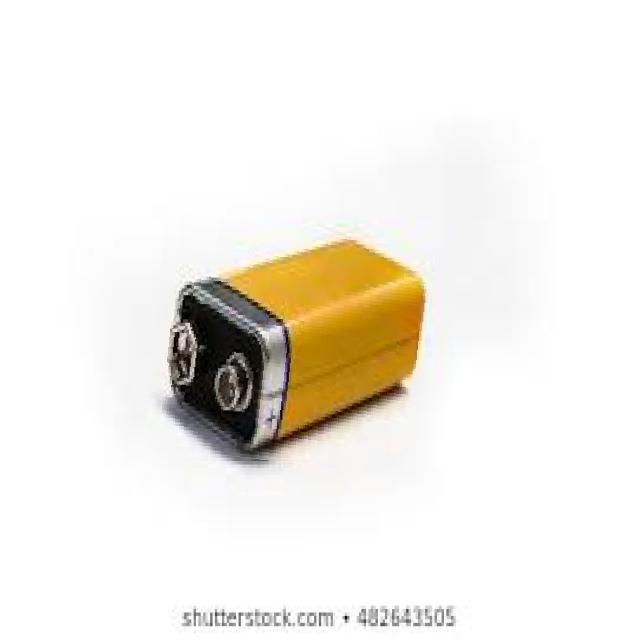Battery: (106, 217, 464, 463)
